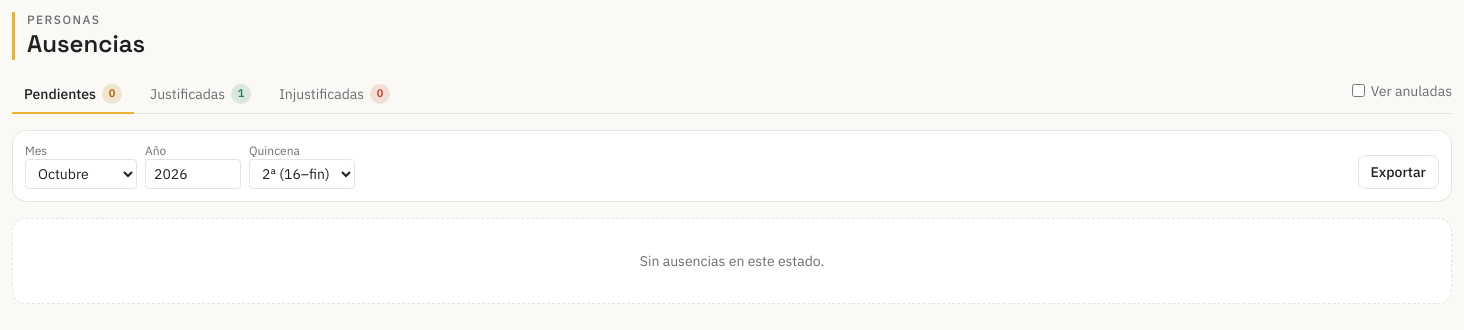
Test case: AusenciasPage › muestra el chip "Certificado nuevo" en la fila cuando el certificado es posterior
The width and height of the screenshot is (1464, 330).
Click the button "Justificadas 1". click: (201, 95)
box: left=138, top=76, right=263, bottom=114
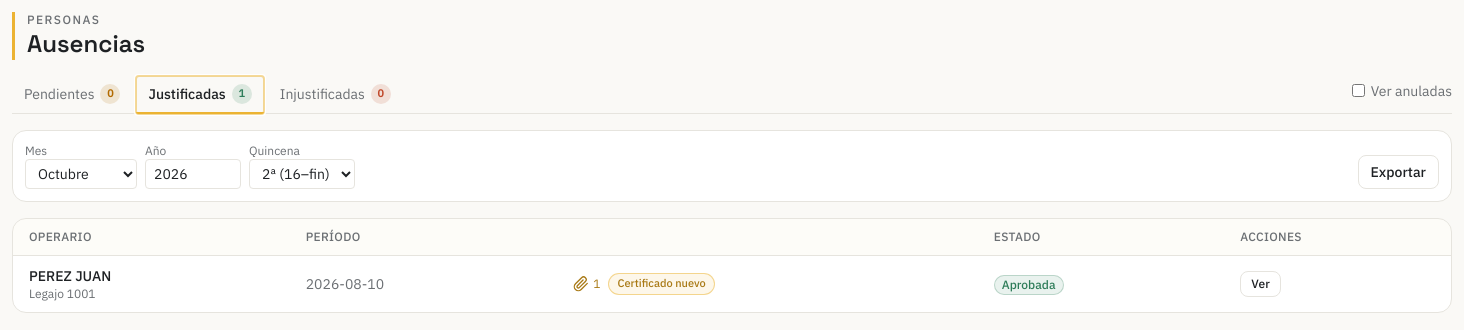
expect the text "Certificado nuevo" is shown: met, box left=608, top=273, right=715, bottom=295
